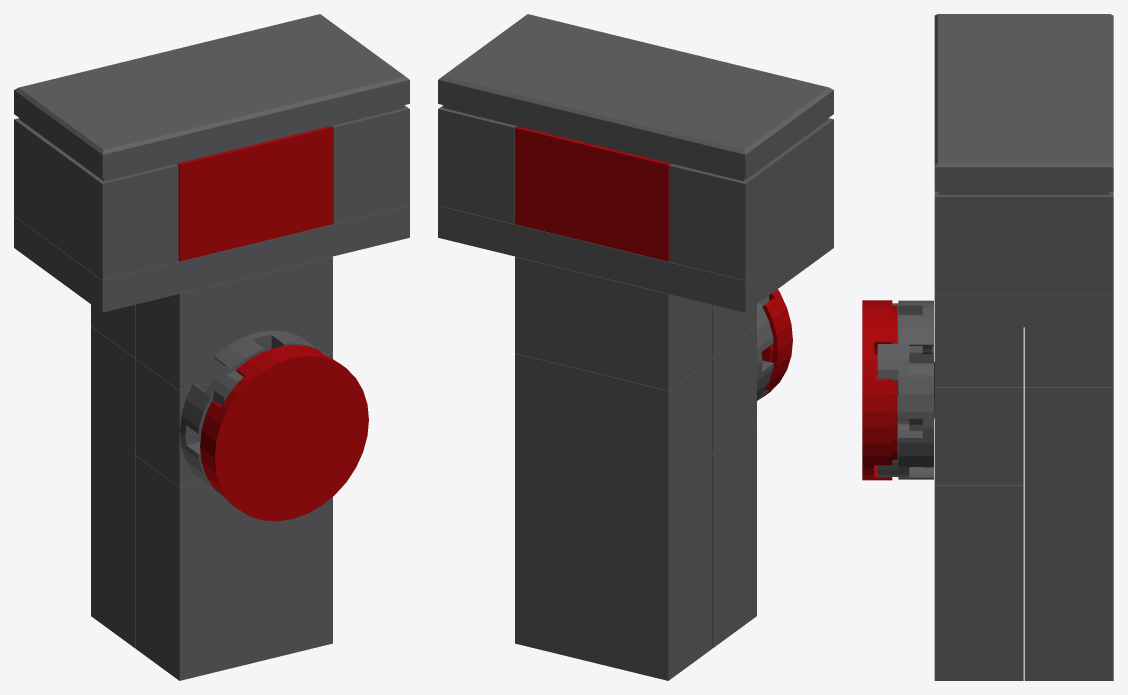
Rendered from Button1.dae.
3 views of the same model, side by side, from view 1: azimuth 30°, elevation 25°; view 2: azimuth 150°, elevation 25°; view 3: azimuth 270°, elevation 25° (orthographic).
Visible parts, largest first — view 1: Part.11, Part.1, Part.6, Part.10, Part.8, Part.4, Part.0, Part.7, Part.9, Part.2, Part.5, Part.3; view 2: Part.0, Part.11, Part.3, Part.10, Part.8, Part.7, Part.1, Part.9, Part.2, Part.6, Part.4, Part.5; view 3: Part.11, Part.0, Part.9, Part.1, Part.2, Part.5, Part.7, Part.6, Part.3, Part.4.
Boxes of the visible parts, x1,y1,x2,y2 form: Part.11: (14, 14, 409, 181); Part.1: (135, 456, 332, 680); Part.6: (200, 345, 368, 521); Part.10: (14, 118, 178, 280); Part.8: (177, 126, 332, 261); Part.4: (135, 256, 332, 390); Part.0: (91, 326, 135, 648); Part.7: (14, 205, 409, 312); Part.9: (331, 105, 409, 223); Part.2: (135, 353, 332, 487); Part.5: (180, 330, 334, 501); Part.3: (91, 304, 135, 357); Part.0: (515, 353, 712, 680); Part.11: (438, 14, 833, 181); Part.3: (515, 256, 712, 390); Part.10: (669, 118, 833, 280); Part.8: (515, 126, 670, 261); Part.7: (438, 205, 833, 312); Part.1: (712, 423, 756, 648); Part.9: (438, 105, 516, 223); Part.2: (712, 326, 756, 454); Part.6: (761, 289, 792, 397); Part.4: (712, 304, 756, 357); Part.5: (757, 296, 773, 400); Part.11: (934, 14, 1113, 194); Part.0: (1024, 387, 1113, 680); Part.9: (934, 191, 1113, 294); Part.1: (934, 485, 1023, 680); Part.2: (934, 362, 1023, 484); Part.5: (877, 300, 933, 479); Part.7: (934, 294, 1113, 327); Part.6: (862, 300, 897, 480); Part.3: (1024, 327, 1113, 386); Part.4: (934, 327, 1023, 386).
Size of the model in its own units: 31.92 by 54.36 by 22.34.
